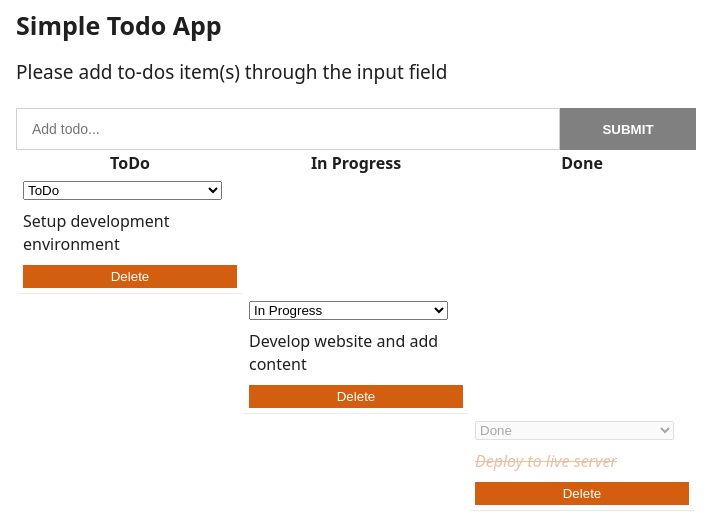
Test: Delete todo
The width and height of the screenshot is (713, 528).
Click the button "Delete" below "Setup development environment". click: point(130, 277)
box: x1=23 y1=265 x2=237 y2=288
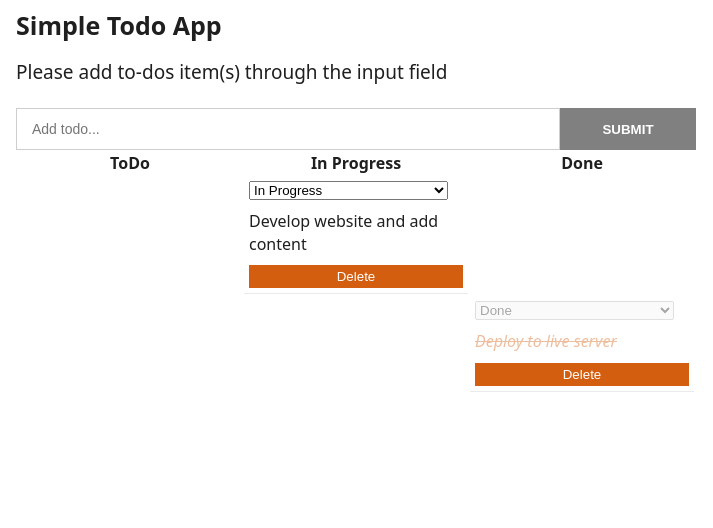
Now the text "Setup development environment" is gone
